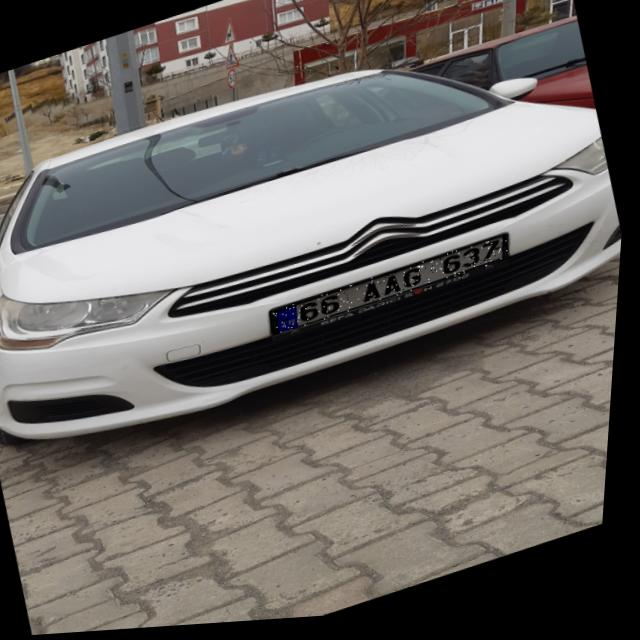license_plate: (271, 240, 516, 340)
